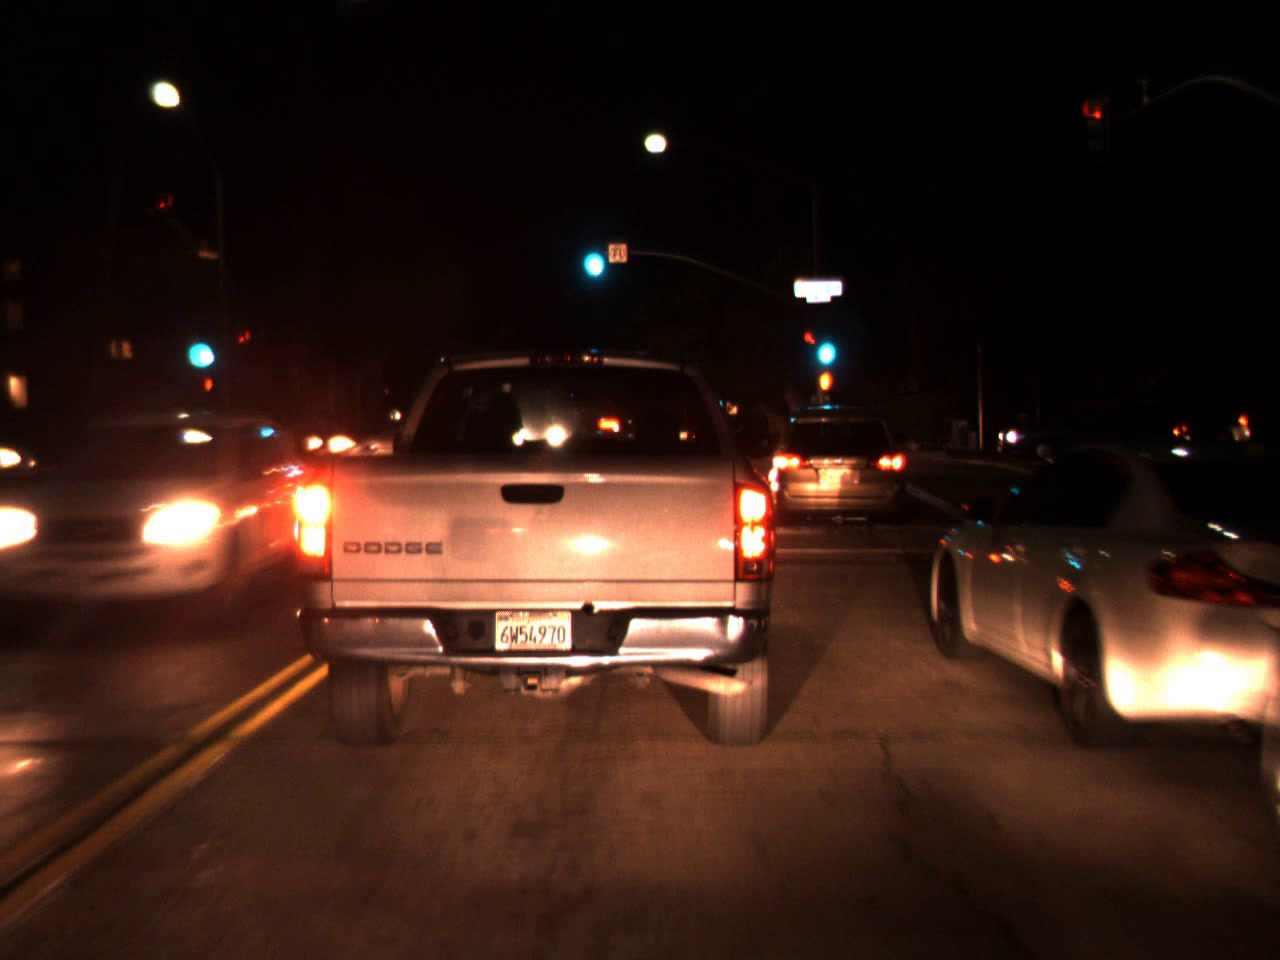go: (179, 309, 216, 378), (574, 221, 610, 287), (809, 314, 839, 374)
